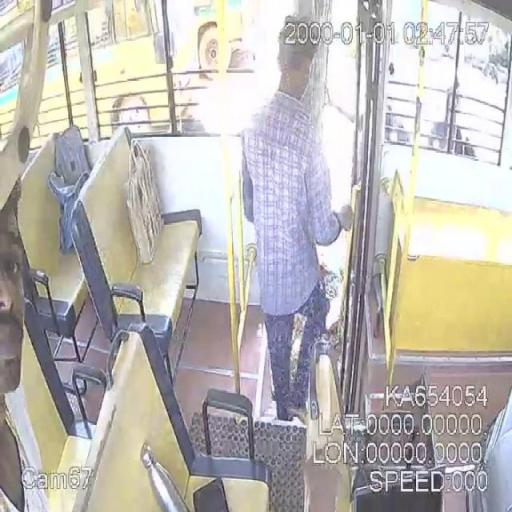persona: (238, 14, 358, 424)
